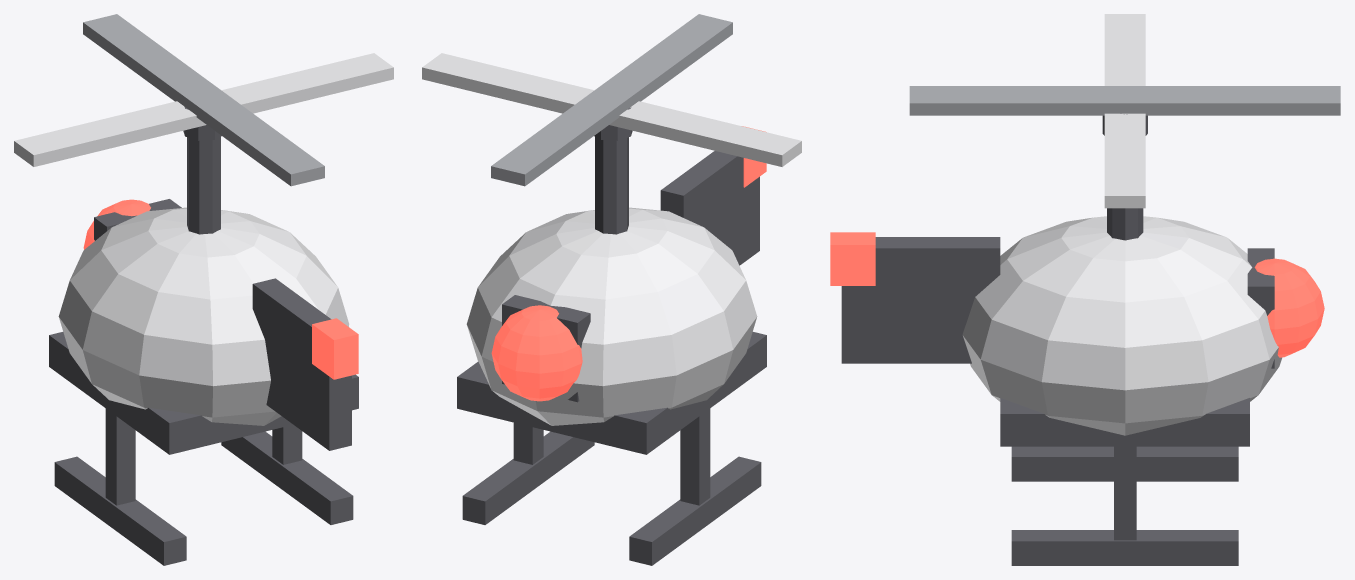
File: jp_kitsune.glb
3 views of the same model, side by side, from view 1: azimuth 30°, elevation 25°; view 2: azimuth 150°, elevation 25°; view 3: azimuth 270°, elevation 25° (orthographic). The views are drawn at different scales.
Parts seen in each view (by area): view 1: Body, Rotor, Tail, BellyBand, SkidR, SkidL, Mast, LegR, TailTip, LegL, EyeRing, Eye; view 2: Body, Rotor, BellyBand, Tail, Eye, SkidR, SkidL, Mast, LegR, EyeRing, LegL, TailTip; view 3: Body, Rotor, Tail, SkidL, SkidR, BellyBand, Eye, TailTip, LegL, EyeRing, Mast.
Part boxes in pixels (<box>): Body: <box>58,207,349,425</box>; Rotor: <box>14,14,393,186</box>; Tail: <box>252,278,351,450</box>; BellyBand: <box>49,332,358,454</box>; SkidR: <box>54,456,186,565</box>; SkidL: <box>221,431,353,524</box>; Mast: <box>187,137,220,234</box>; LegR: <box>105,408,135,505</box>; TailTip: <box>312,318,358,379</box>; LegL: <box>272,424,302,464</box>; EyeRing: <box>94,199,181,240</box>; Eye: <box>83,199,150,249</box>; Body: <box>466,207,757,425</box>; Rotor: <box>422,14,801,186</box>; BellyBand: <box>457,332,766,454</box>; Tail: <box>660,151,759,265</box>; Eye: <box>491,305,582,401</box>; SkidR: <box>629,456,761,565</box>; SkidL: <box>462,431,594,524</box>; Mast: <box>595,137,628,234</box>; LegR: <box>680,408,710,505</box>; EyeRing: <box>502,295,590,402</box>; LegL: <box>513,422,543,464</box>; TailTip: <box>742,126,766,187</box>; Body: <box>962,216,1282,435</box>; Rotor: <box>909,14,1340,208</box>; Tail: <box>841,237,1000,363</box>; SkidL: <box>1011,530,1238,565</box>; SkidR: <box>1011,446,1238,481</box>; BellyBand: <box>1000,398,1249,446</box>; Eye: <box>1254,258,1324,357</box>; TailTip: <box>830,232,875,285</box>; LegL: <box>1114,446,1136,540</box>; EyeRing: <box>1247,248,1274,368</box>; Mast: <box>1107,208,1143,240</box>.
Size of the model in its own units: 0.95 by 1.03 by 1.13.
